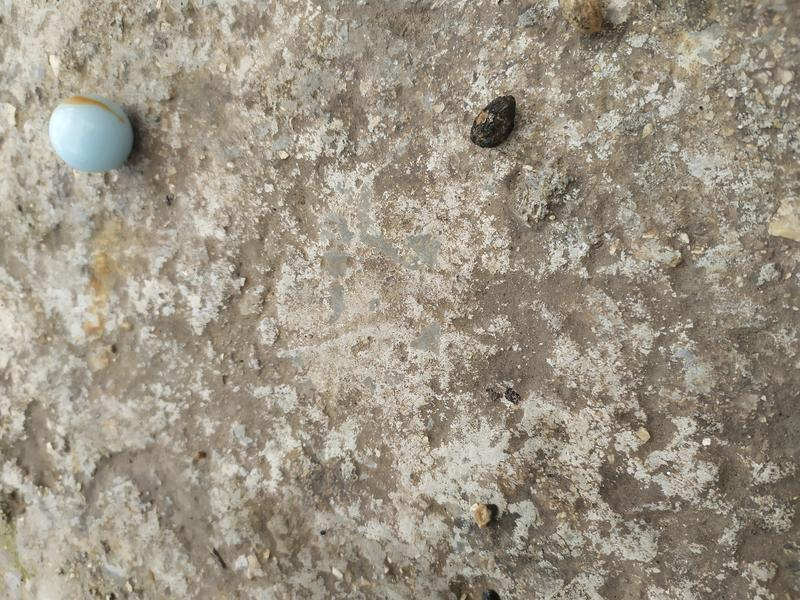Warning: (46, 91, 137, 175)
